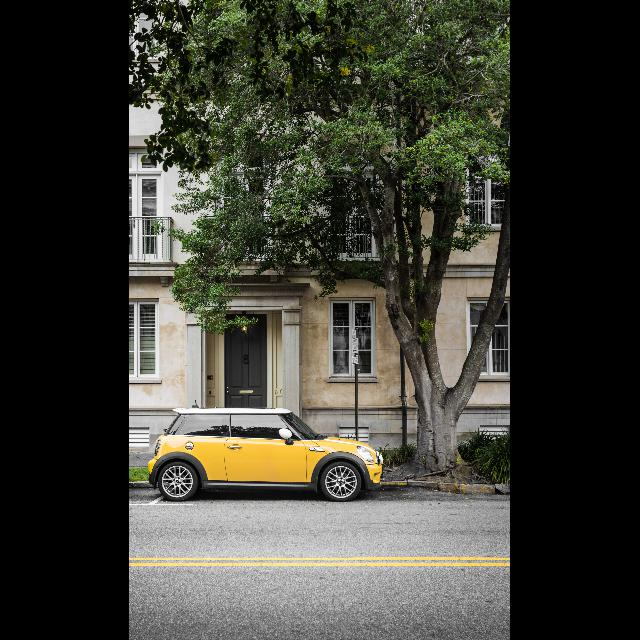cars: (142, 390, 388, 512)
